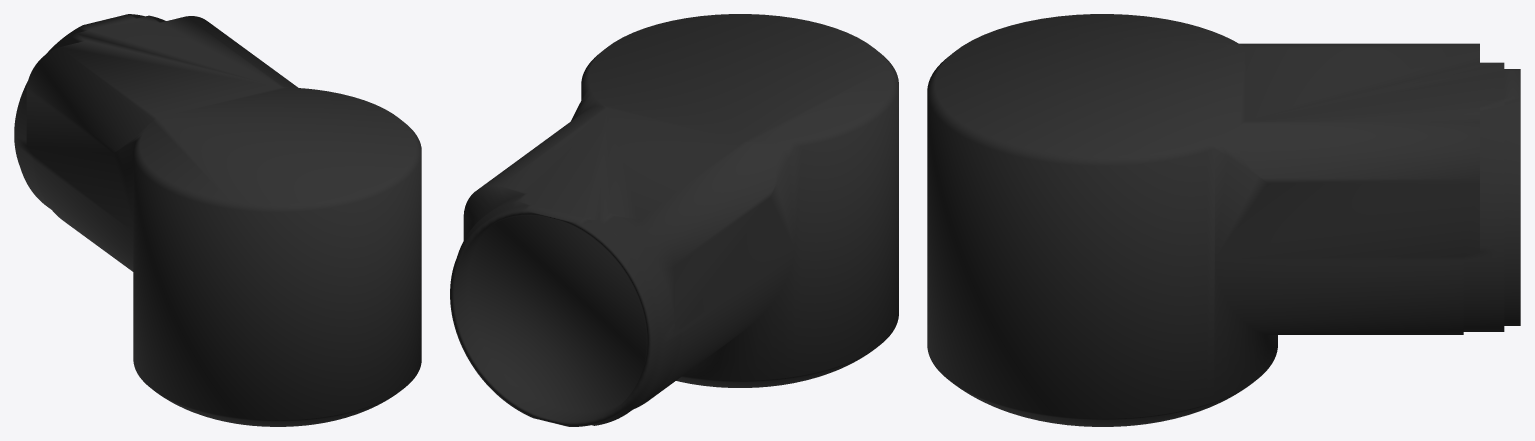
The model's file is arml1.obj.
3 views of the same model, side by side, from view 1: azimuth 30°, elevation 25°; view 2: azimuth 150°, elevation 25°; view 3: azimuth 270°, elevation 25° (orthographic). The views are drawn at different scales.
Parts seen in each view (by area): view 1: arml1_001-mesh; view 2: arml1_001-mesh; view 3: arml1_001-mesh.
Part boxes in pixels (x1,y1,x2,y2): arml1_001-mesh: [14, 14, 421, 426]; arml1_001-mesh: [450, 14, 898, 426]; arml1_001-mesh: [927, 14, 1520, 426].
Size of the model in its own units: 0.086 by 0.0763 by 0.1455.
Materials: 1 (1 with a texture image).
